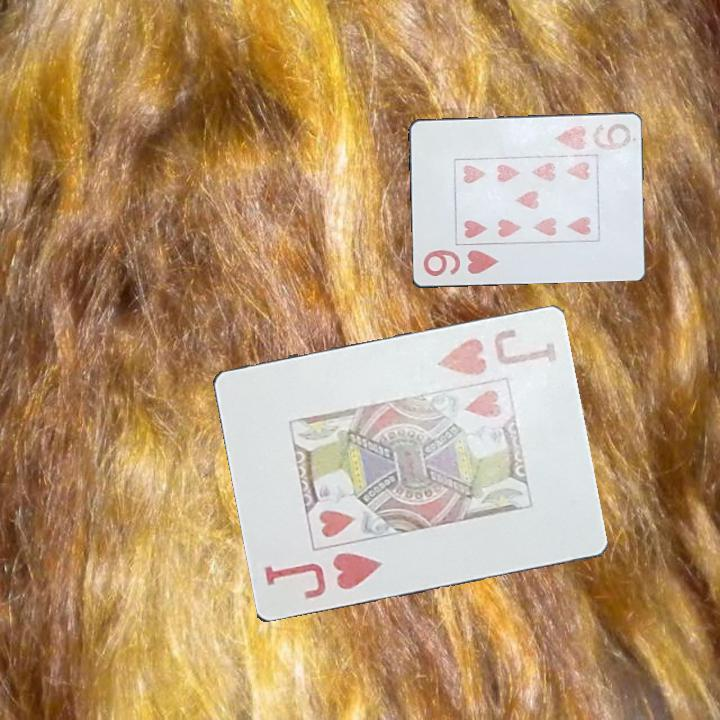9h: (551, 120, 637, 155), (419, 246, 503, 280)
Jh: (433, 326, 559, 379), (260, 549, 385, 602)
